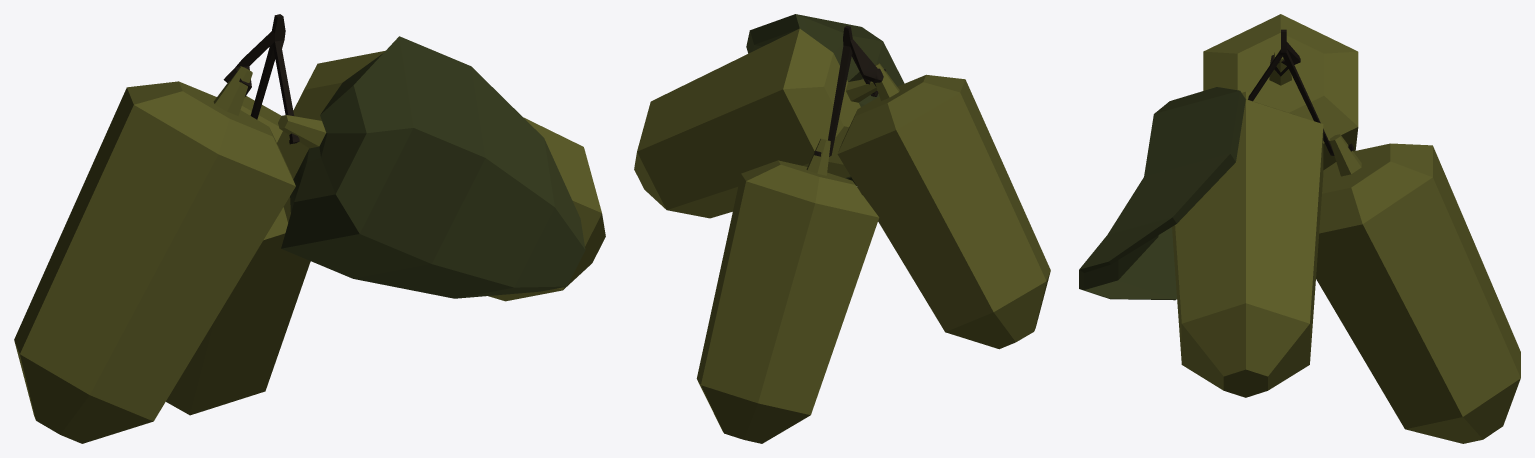
Rendered from 玉米捆_pCylinder14.FBX.
The picture shows the model from 3 angles, left to right: view 1: azimuth 30°, elevation 25°; view 2: azimuth 150°, elevation 25°; view 3: azimuth 270°, elevation 25°; orthographic projection. The views are drawn at different scales.
Visible parts, largest first — view 1: 玉米捆_pCylinder14; view 2: 玉米捆_pCylinder14; view 3: 玉米捆_pCylinder14.
Boxes of the visible parts, x1=… form: 玉米捆_pCylinder14: x1=14, y1=14, x2=605, y2=443; 玉米捆_pCylinder14: x1=634, y1=14, x2=1050, y2=443; 玉米捆_pCylinder14: x1=1079, y1=14, x2=1520, y2=443.
Bounding box in the file's own units: 34.4 × 27.78 × 27.78.
